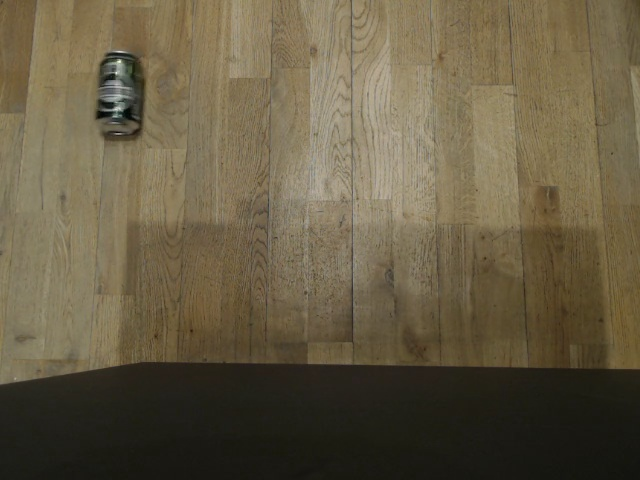beer: (89, 46, 149, 141)
